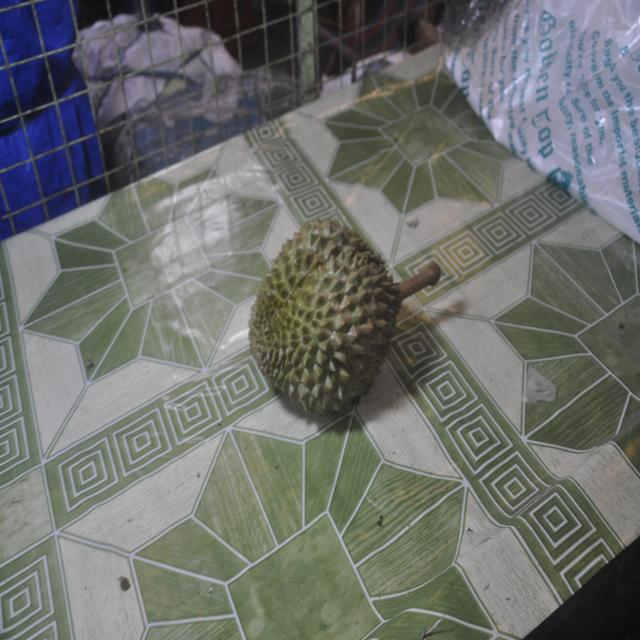mature: (249, 219, 439, 415)
